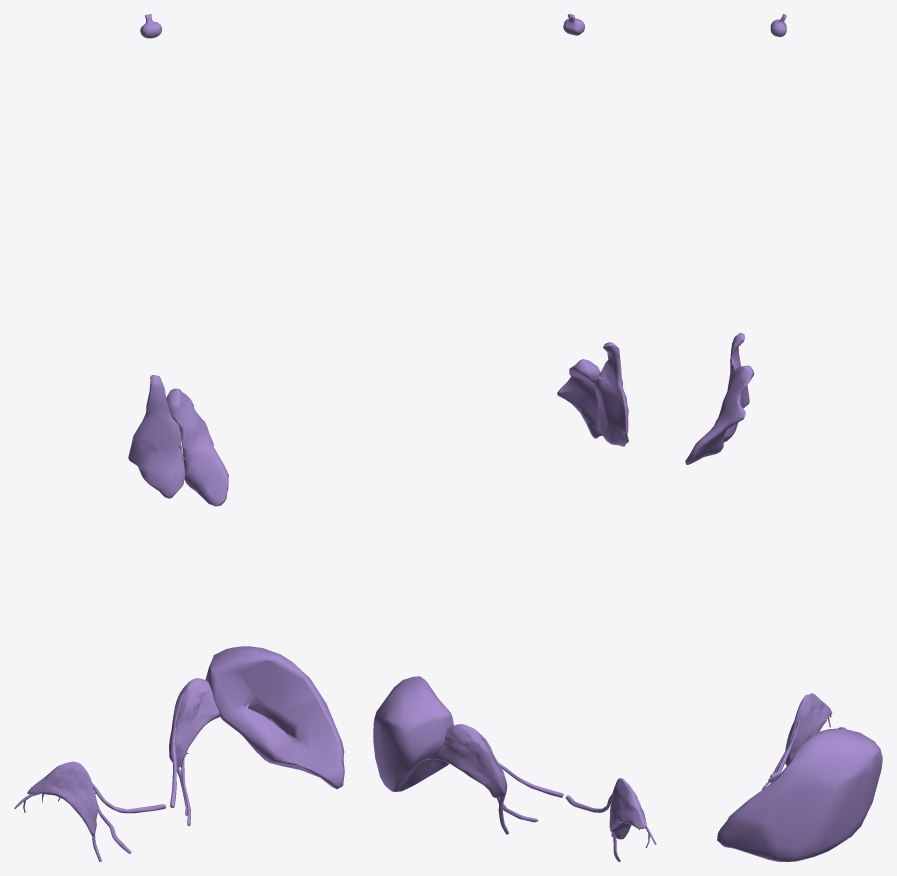
The model's file is glands.glb.
3 views of the same model, side by side, from view 1: azimuth 30°, elevation 25°; view 2: azimuth 150°, elevation 25°; view 3: azimuth 270°, elevation 25° (orthographic). The views are drawn at different scales.
Parts seen in each view (by area): view 1: FJ2561, FJ3151, FJ3150, FJ3129, FJ3130; view 2: FJ2561, FJ3129, FJ3151, FJ3150, FJ3130; view 3: FJ2561, FJ3150, FJ3130, FJ3151.
Boxes of the visible parts, x1=… form: FJ2561: x1=205, y1=646, x2=344, y2=788; FJ3151: x1=128, y1=375, x2=185, y2=498; FJ3150: x1=166, y1=388, x2=228, y2=506; FJ3129: x1=169, y1=678, x2=219, y2=767; FJ3130: x1=27, y1=761, x2=97, y2=836; FJ2561: x1=373, y1=676, x2=453, y2=792; FJ3129: x1=425, y1=724, x2=505, y2=798; FJ3151: x1=594, y1=342, x2=628, y2=446; FJ3150: x1=557, y1=359, x2=602, y2=438; FJ3130: x1=609, y1=778, x2=646, y2=839; FJ2561: x1=717, y1=728, x2=882, y2=861; FJ3150: x1=685, y1=365, x2=754, y2=464; FJ3130: x1=785, y1=693, x2=832, y2=765; FJ3151: x1=724, y1=333, x2=749, y2=442.
Bounding box in the file's own units: 0.184 × 0.5052 × 0.113.
